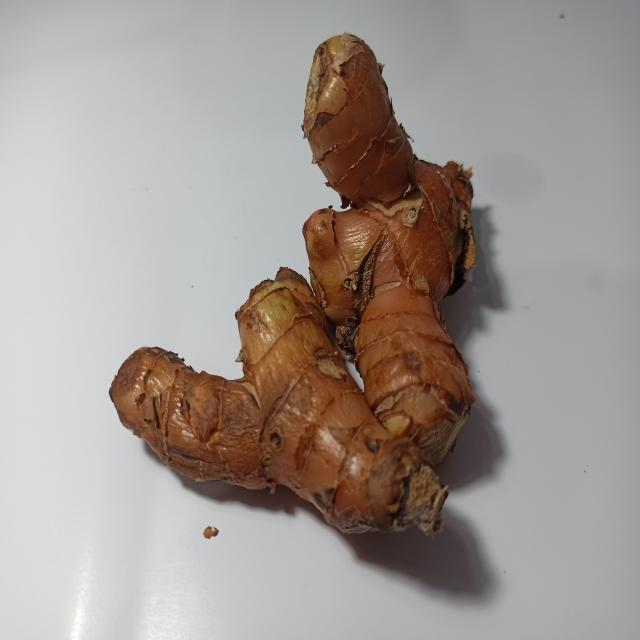ginger: (122, 53, 531, 576)
